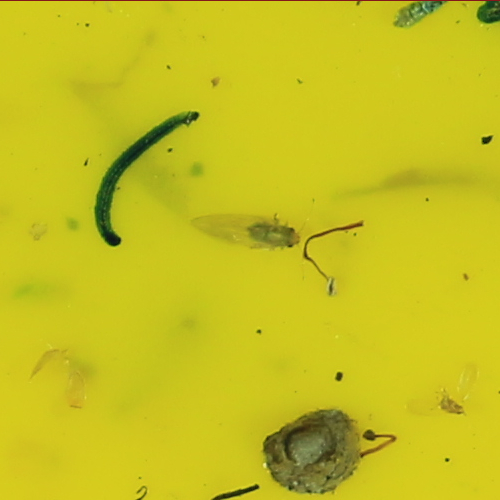Glycaspis: (248, 217, 302, 249)
